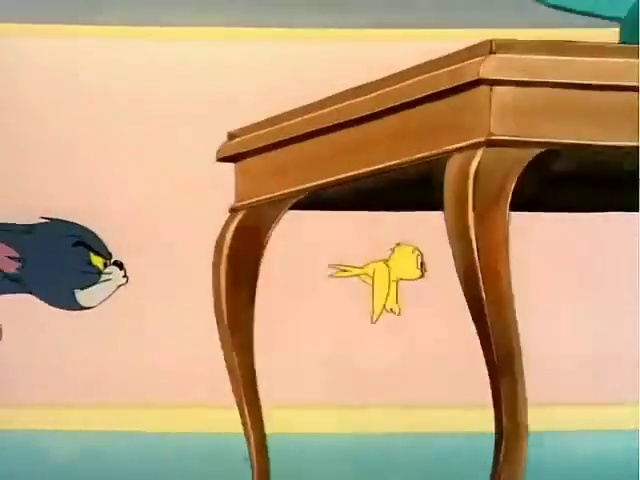tom: (2, 192, 166, 354)
